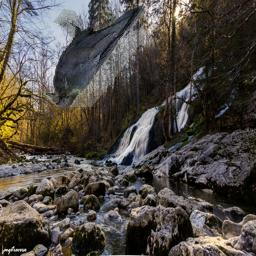Crow: (44, 5, 145, 108)
